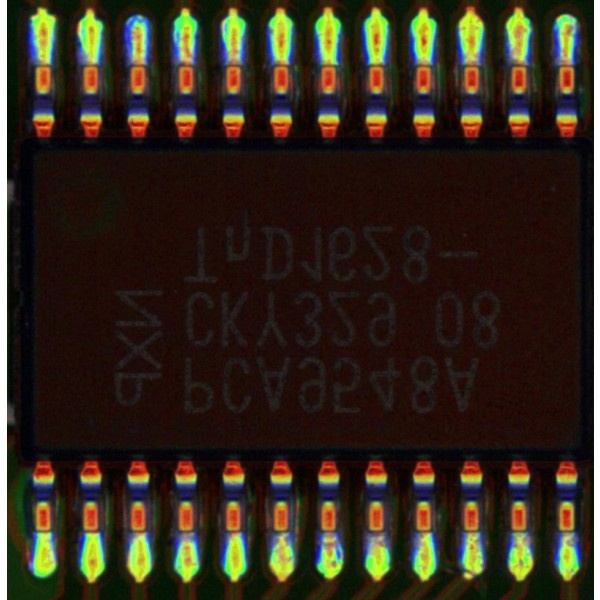Bad_podu: (180, 45, 194, 76), (228, 45, 241, 76), (514, 47, 526, 79), (132, 48, 144, 78), (561, 47, 573, 77)
